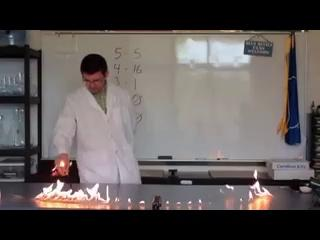Fire: (40, 166, 280, 202)
